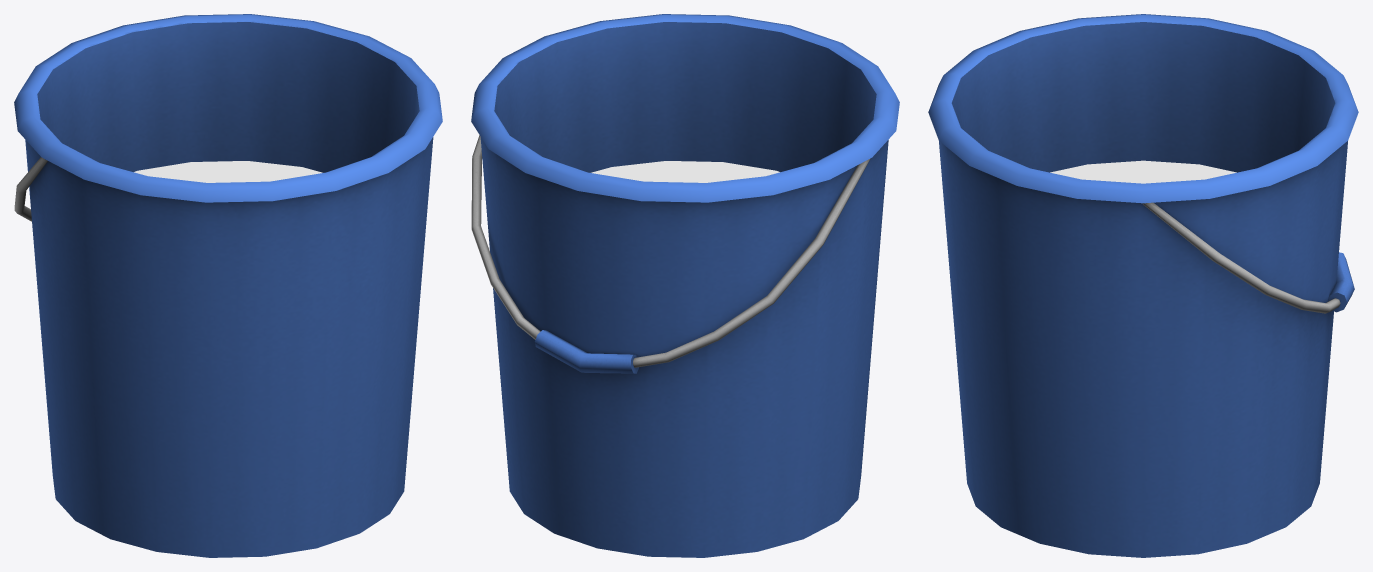
Rendered from bucket.fbx.
3 views of the same model, side by side, from view 1: azimuth 30°, elevation 25°; view 2: azimuth 150°, elevation 25°; view 3: azimuth 270°, elevation 25° (orthographic).
Visible parts, largest first — view 1: bucket; view 2: bucket; view 3: bucket.
Part boxes in pixels (box(x1,y1,x2,y2)): bucket: box(14, 14, 442, 557); bucket: box(471, 14, 899, 557); bucket: box(928, 14, 1358, 557).
Bounding box in the file's own units: 0.1318 × 0.1297 × 0.1318.
Materials: 2 (2 with a texture image).
